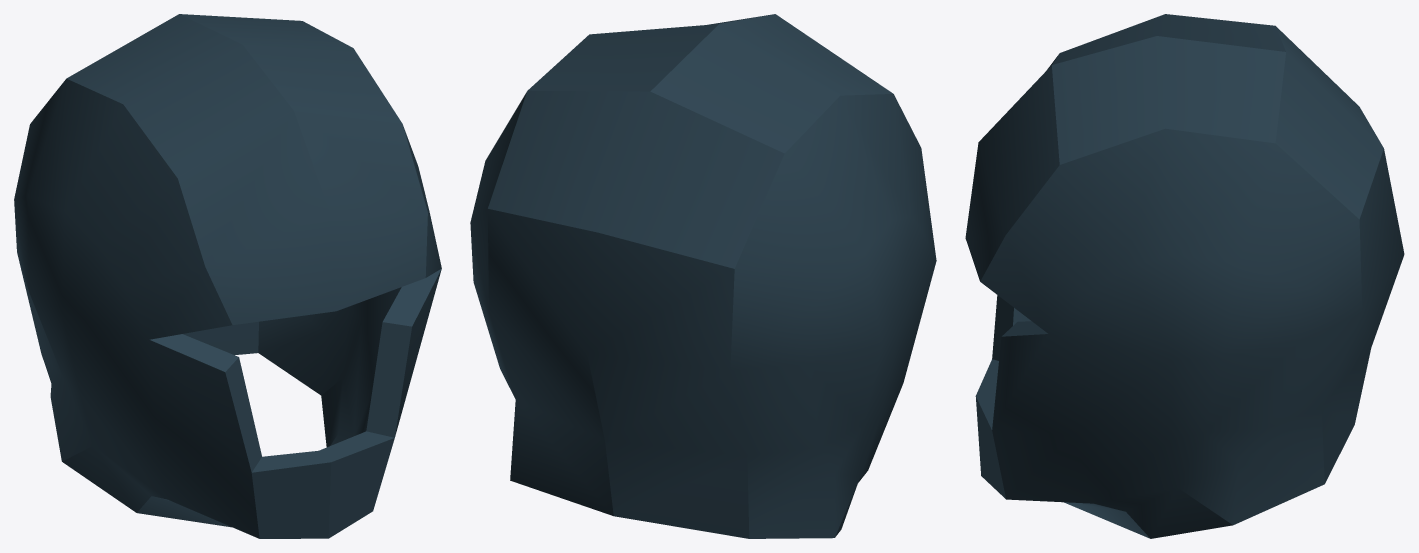
Rendered from casco.fbx.
The picture shows the model from 3 angles, left to right: view 1: azimuth 30°, elevation 25°; view 2: azimuth 150°, elevation 25°; view 3: azimuth 270°, elevation 25°; orthographic projection. The views are drawn at different scales.
Visible parts, largest first — view 1: male.001; view 2: male.001; view 3: male.001.
Part boxes in pixels (x1,y1,x2,y2): male.001: (14,14,441,538); male.001: (470,14,936,538); male.001: (965,14,1404,538).
Bounding box in the file's own units: 65.64 × 80.72 × 67.4.
1 material, 1 textured.
